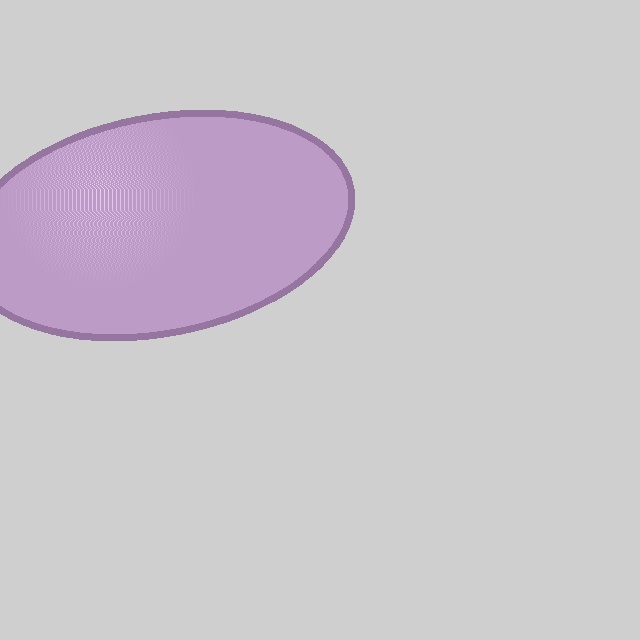lens: (0, 113, 350, 337)
